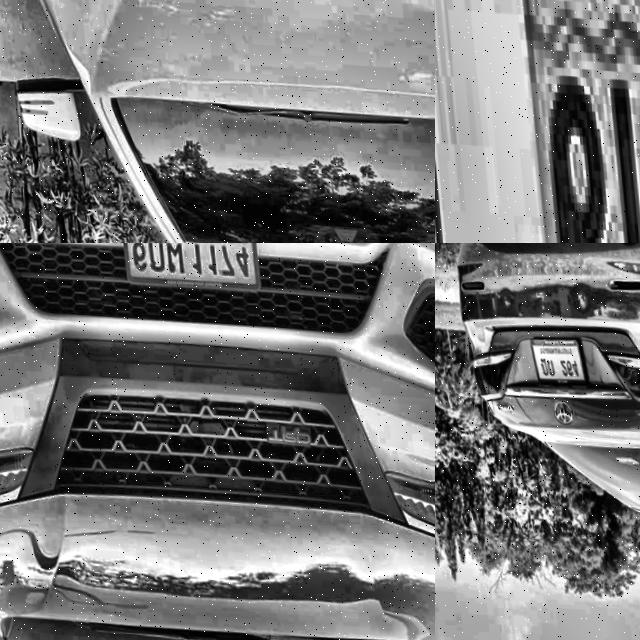license-plate: (435, 0, 640, 243), (115, 243, 260, 290), (510, 317, 595, 392)
